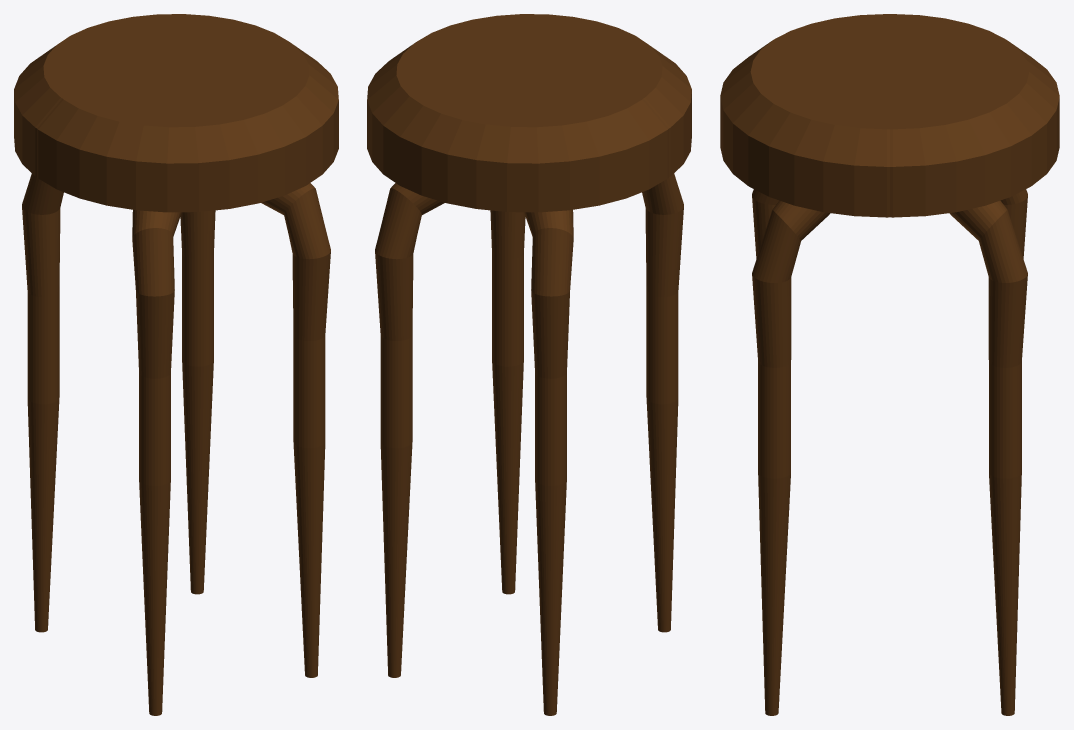
Rendered from Work cushion_chair.fbx.
3 views of the same model, side by side, from view 1: azimuth 30°, elevation 25°; view 2: azimuth 150°, elevation 25°; view 3: azimuth 270°, elevation 25° (orthographic). The views are drawn at different scales.
Visible parts, largest first — view 1: Cylinder.001; view 2: Cylinder.001; view 3: Cylinder.001.
Boxes of the visible parts, x1=… form: Cylinder.001: x1=14, y1=14, x2=338, y2=715; Cylinder.001: x1=367, y1=14, x2=691, y2=715; Cylinder.001: x1=720, y1=14, x2=1059, y2=715.
Bounding box in the file's own units: 169 × 336 × 172.
